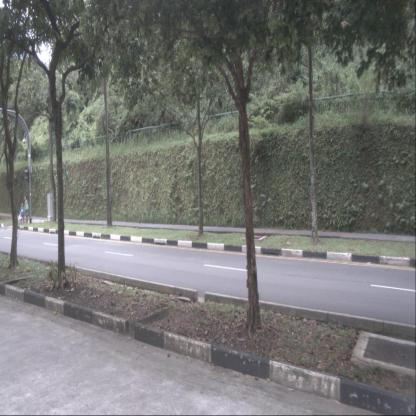human-pedestrian-adult: (24, 194, 29, 224)
